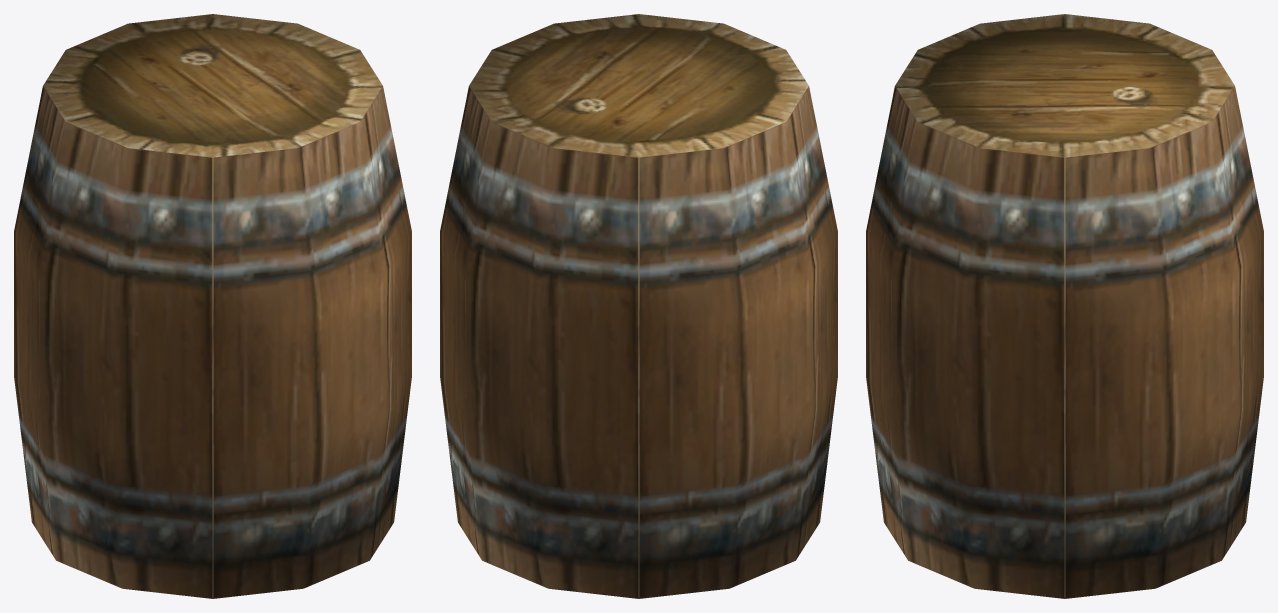
The model's file is innbarrel.glb.
3 views of the same model, side by side, from view 1: azimuth 30°, elevation 25°; view 2: azimuth 150°, elevation 25°; view 3: azimuth 270°, elevation 25° (orthographic).
Bounding box in the file's own units: 1.38 × 1.67 × 1.38.
Materials: 1 (1 with a texture image).
